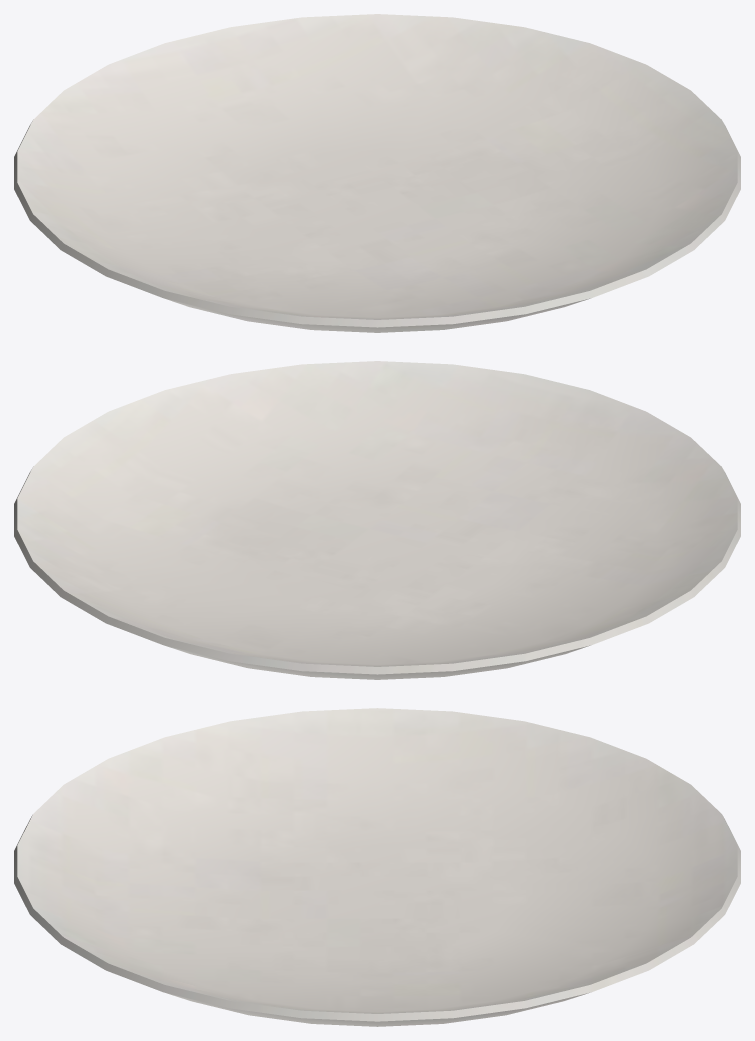
The model's file is T_Kitchen_Plate_01.glb.
3 renders of one model, top to bottom at view 1: azimuth 30°, elevation 25°; view 2: azimuth 150°, elevation 25°; view 3: azimuth 270°, elevation 25°, orthographic.
Parts seen in each view (by area): view 1: T_Kitchen_Plate_01; view 2: T_Kitchen_Plate_01; view 3: T_Kitchen_Plate_01.
Part boxes in pixels (x1=…): T_Kitchen_Plate_01: x1=14, y1=14, x2=740, y2=332; T_Kitchen_Plate_01: x1=14, y1=361, x2=740, y2=679; T_Kitchen_Plate_01: x1=14, y1=708, x2=740, y2=1026.
Bounding box in the file's own units: 0.2651 × 0.0222 × 0.2636.
1 material, 1 textured.
